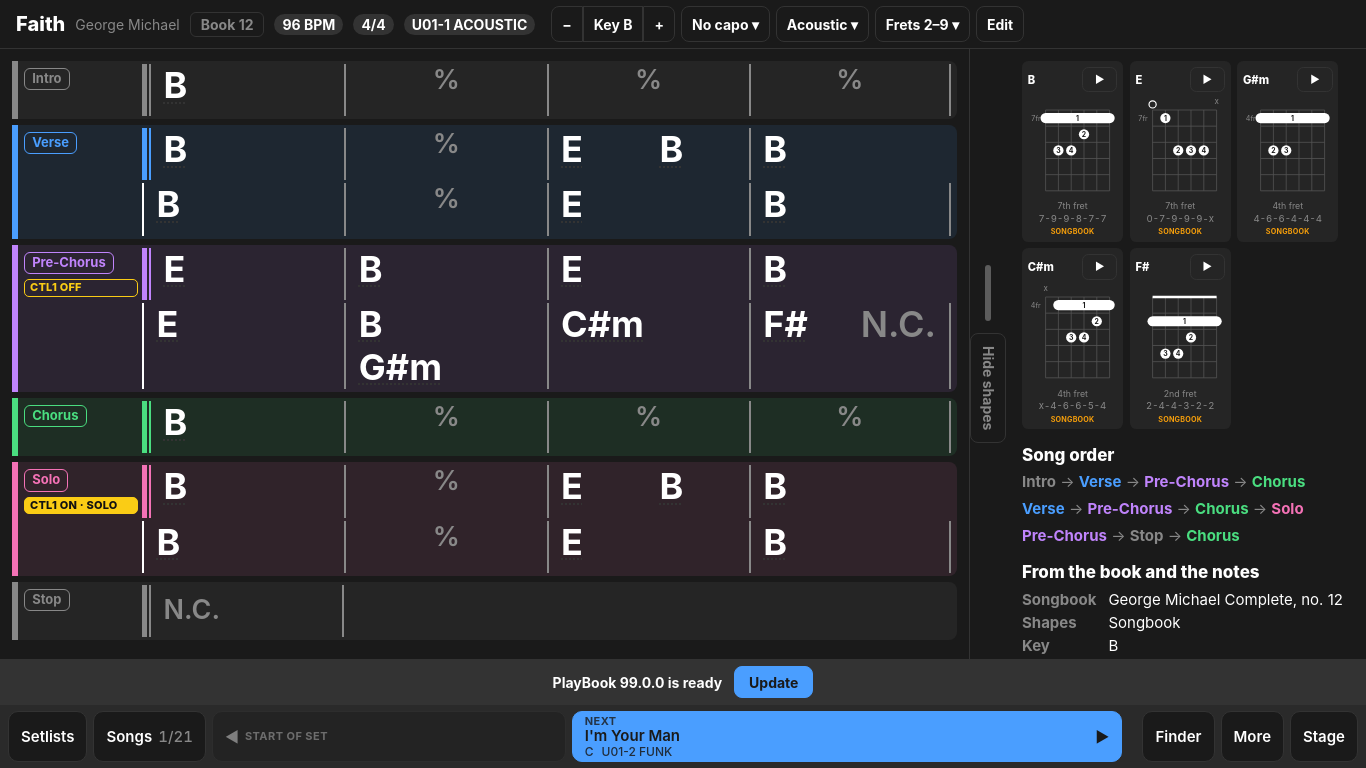
Test case: in the app › shows on Practice, never on Stage, and More offers it too
expect the text "PlayBook 99.0.0 is ready" is shown: met, box top-left (553, 674), bottom-right (722, 690)
Click the button "More": coordinates (1252, 736) top-left (1220, 711), bottom-right (1284, 762)
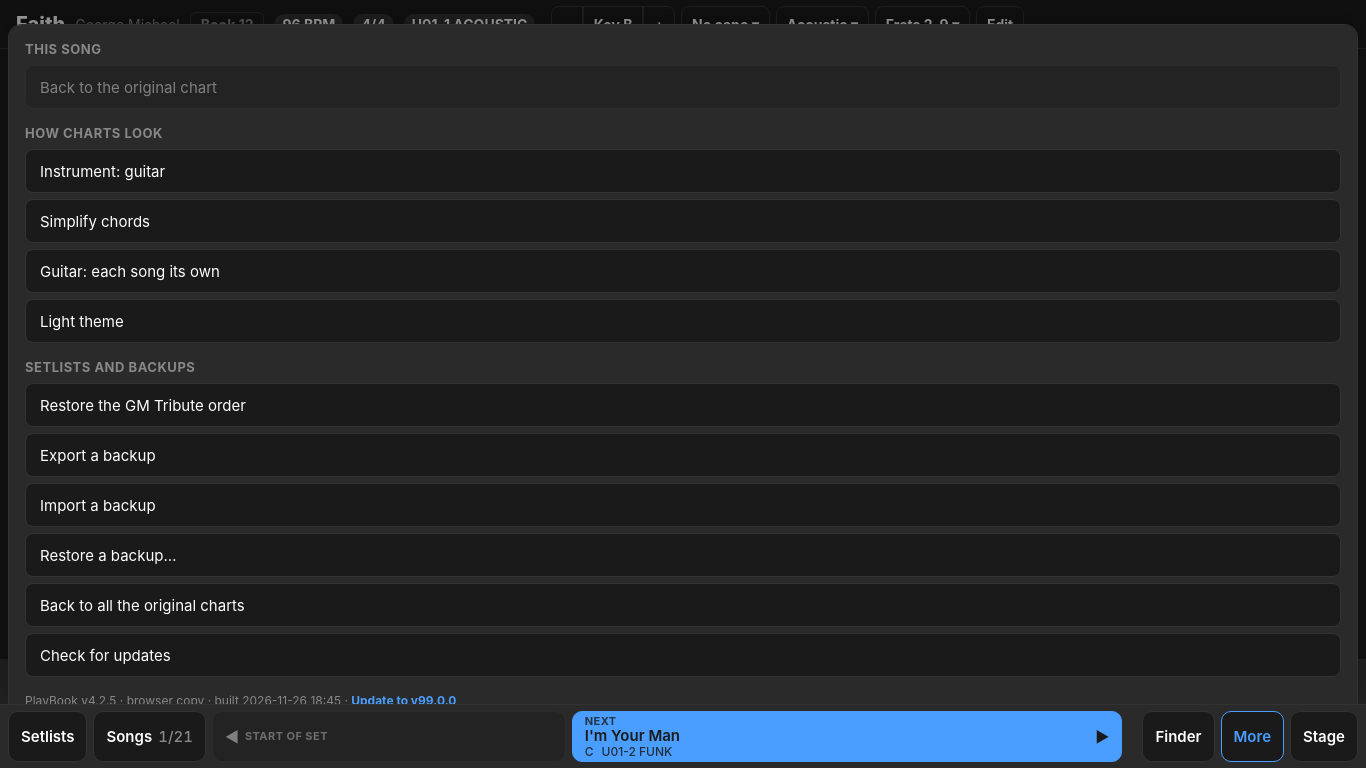
expect the button "Update to v99.0.0" is shown: met, box top-left (351, 693), bottom-right (456, 704)
